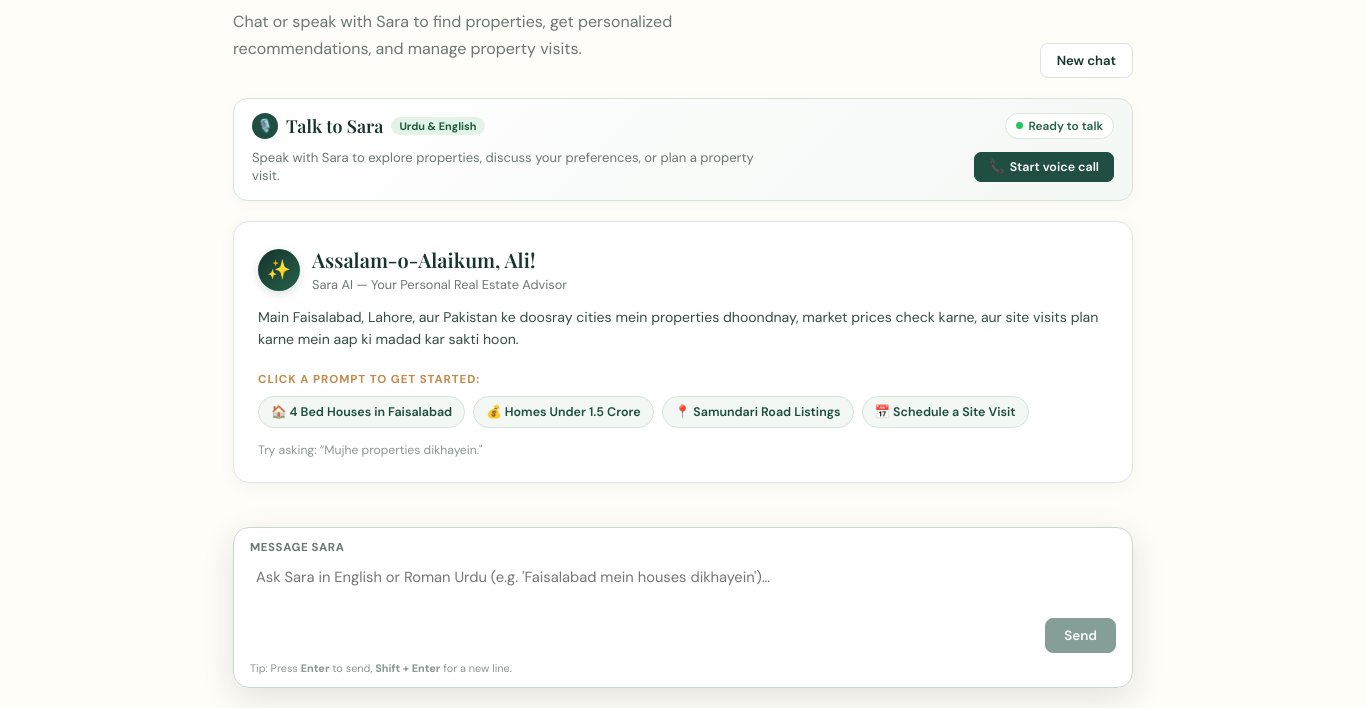
Scenario: opens the existing booking form
(page scrolled)
Step 1. Replace the text in the text box labelled "Message Sara" with "Options dikha dein" → (643, 608), box top-left (250, 563), bottom-right (1035, 653)
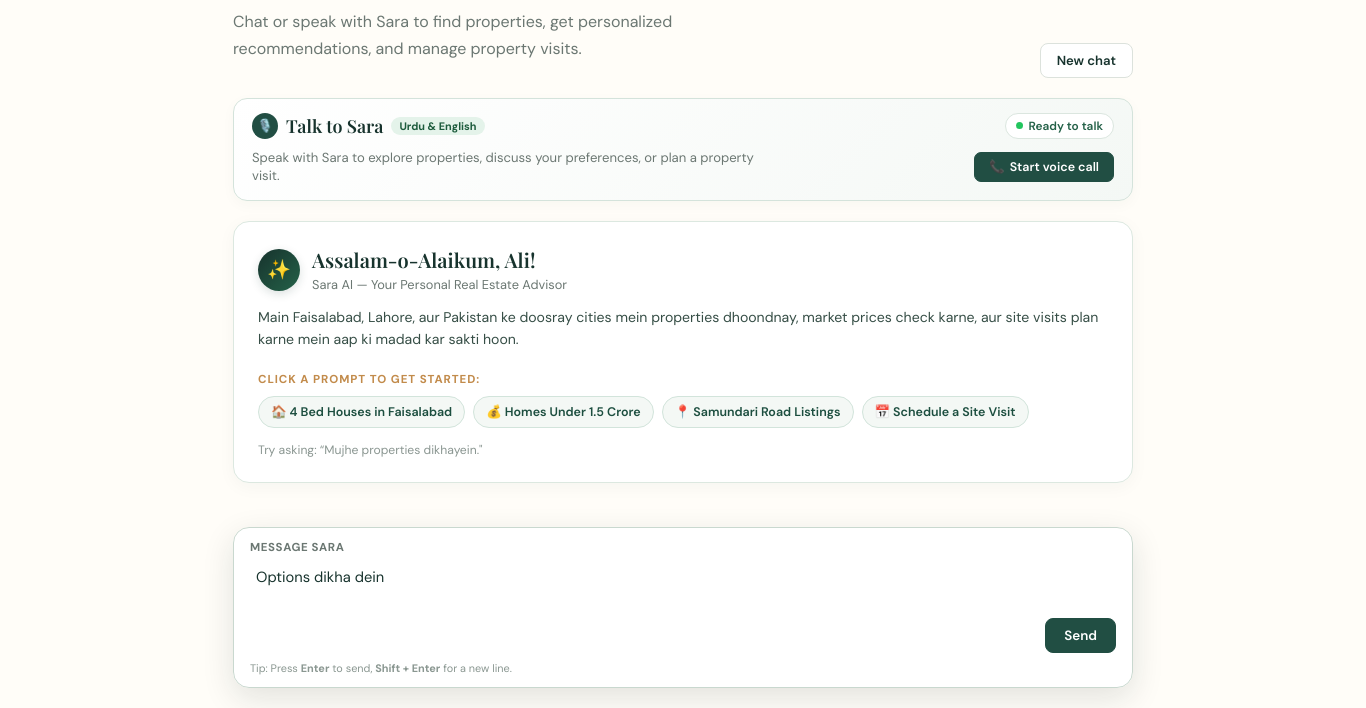
Step 2. Click the button "Send" → (1081, 635), box top-left (1045, 618), bottom-right (1116, 653)
(page scrolled)
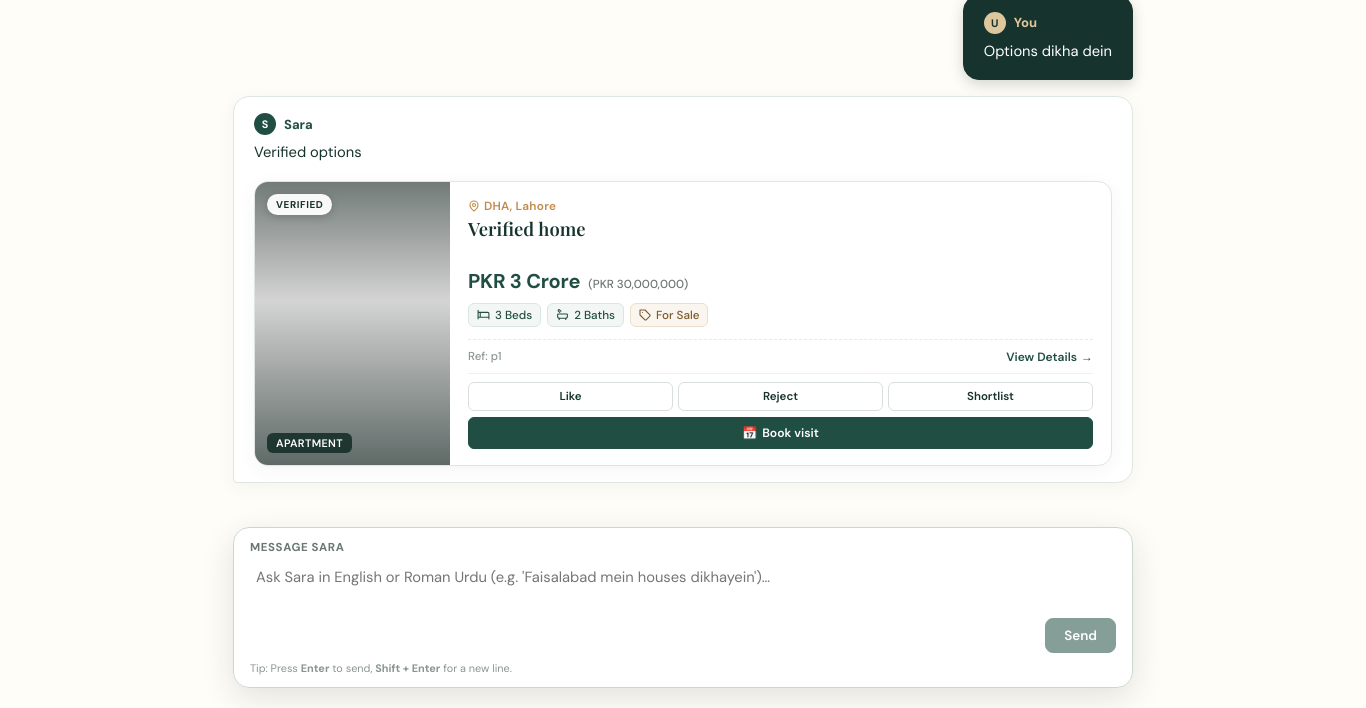
Now the heading "Verified home" is shown, box top-left (468, 216), bottom-right (586, 241)
Step 3. Click the button "📅 Book visit" → (780, 433), box top-left (468, 417), bottom-right (1093, 449)
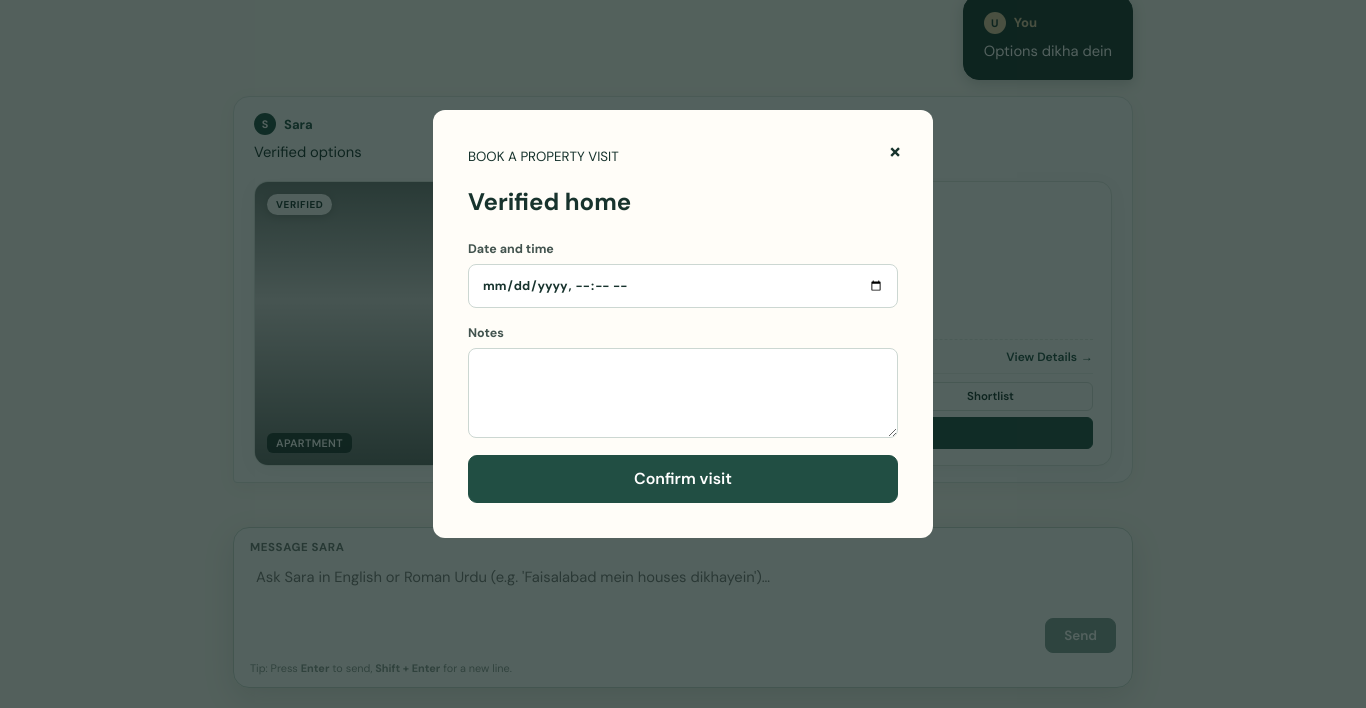
Now the button "Confirm visit" is shown, box top-left (468, 455), bottom-right (898, 503)
